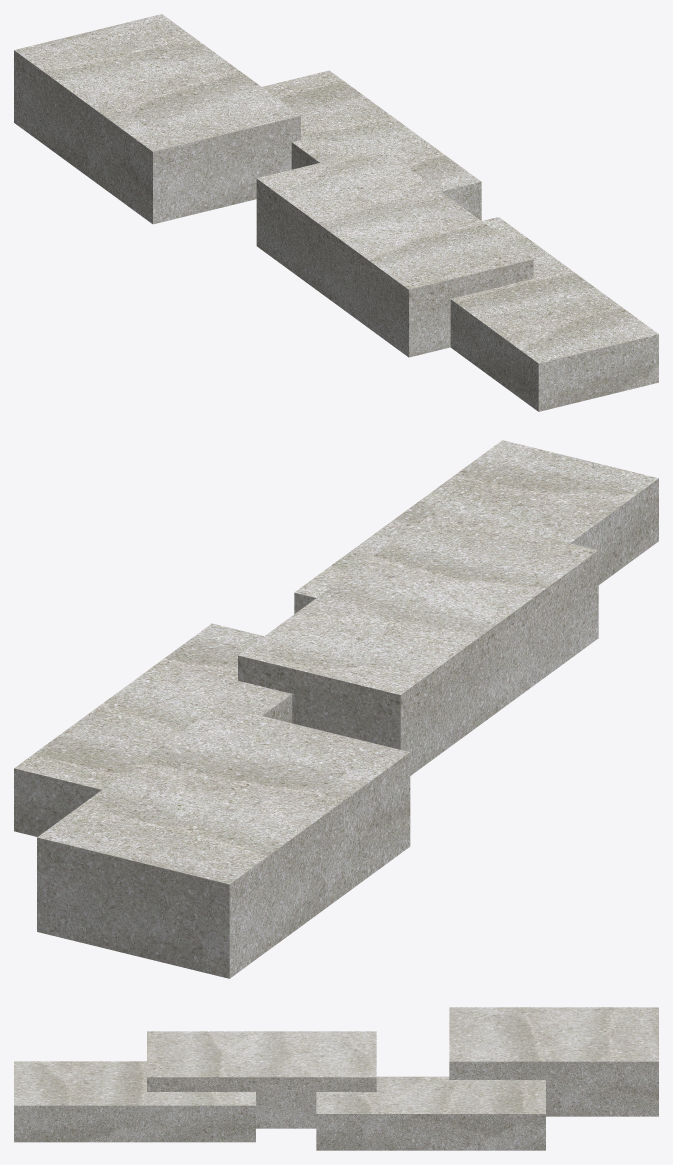
File: SandBagPile.obj
The picture shows the model from 3 angles, top to bottom: view 1: azimuth 30°, elevation 25°; view 2: azimuth 150°, elevation 25°; view 3: azimuth 270°, elevation 25°; orthographic projection. The views are drawn at different scales.
Visible parts, largest first — view 1: Sandbag11, Sandbag12, Sandbag13, Sandbag14; view 2: Sandbag11, Sandbag12, Sandbag14, Sandbag13; view 3: Sandbag11, Sandbag13, Sandbag12, Sandbag14.
Boxes of the visible parts, x1=… form: Sandbag11: x1=14, y1=14, x2=300, y2=224; Sandbag12: x1=256, y1=148, x2=533, y2=357; Sandbag13: x1=450, y1=217, x2=658, y2=411; Sandbag14: x1=262, y1=70, x2=481, y2=220; Sandbag11: x1=37, y1=705, x2=410, y2=978; Sandbag12: x1=238, y1=510, x2=598, y2=775; Sandbag14: x1=14, y1=623, x2=292, y2=836; Sandbag13: x1=294, y1=440, x2=658, y2=613; Sandbag11: x1=449, y1=1007, x2=658, y2=1116; Sandbag13: x1=14, y1=1061, x2=255, y2=1142; Sandbag12: x1=147, y1=1031, x2=376, y2=1128; Sandbag14: x1=316, y1=1076, x2=545, y2=1150.
Bounding box in the file's own units: 2.6 × 0.75 × 8.
1 material, 1 textured.
